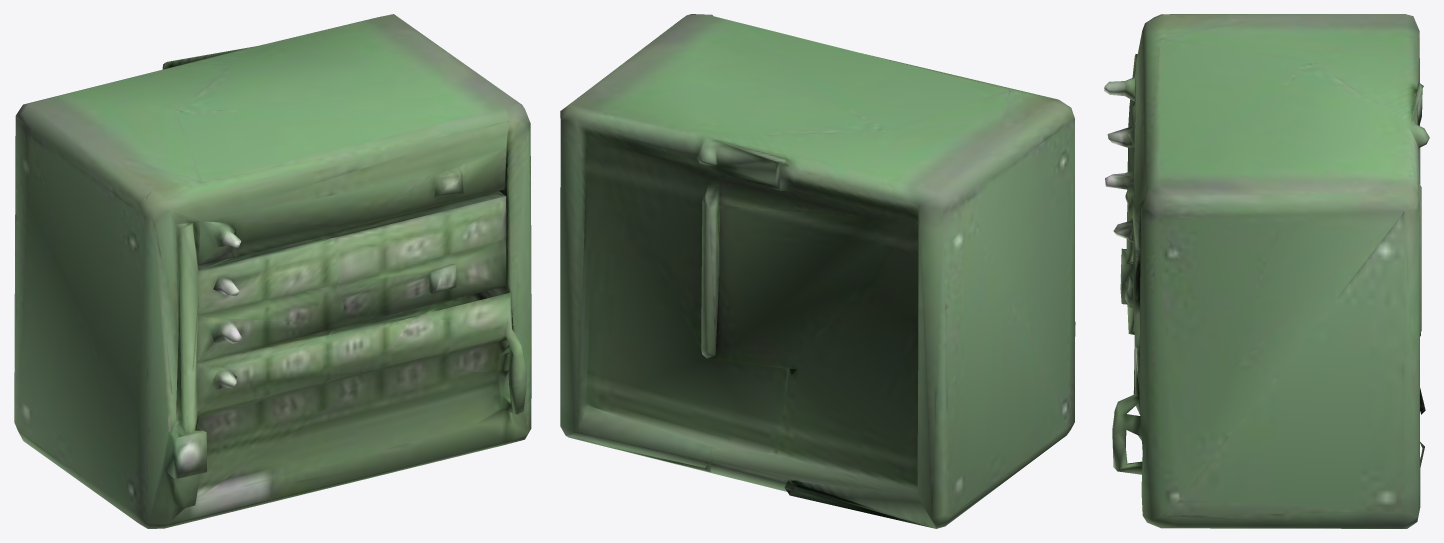
The model's file is prop3d-mailbox.glb.
3 renders of one model, left to right at view 1: azimuth 30°, elevation 25°; view 2: azimuth 150°, elevation 25°; view 3: azimuth 270°, elevation 25°, orthographic.
Bounding box in the file's own units: 2 × 1.65 × 1.44.
Materials: 1 (1 with a texture image).
